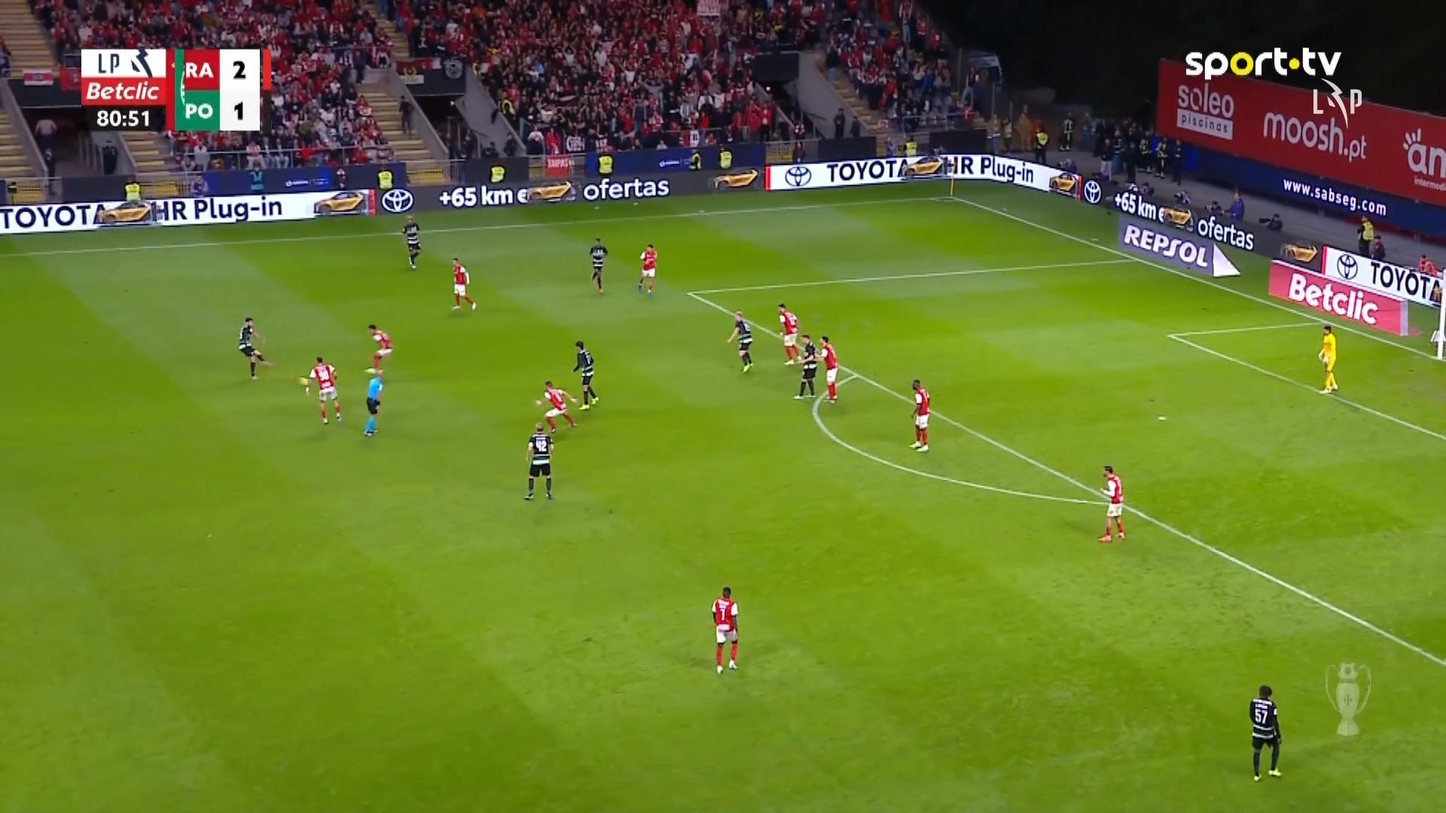ball: (716, 630, 725, 642), (728, 629, 737, 641), (298, 376, 307, 385)
goalkeeper: (1317, 324, 1338, 394)
player: (1248, 684, 1282, 781), (300, 355, 342, 425), (237, 316, 276, 380), (711, 585, 739, 674), (523, 422, 554, 500), (535, 379, 577, 434), (1097, 464, 1125, 541), (572, 340, 598, 410), (726, 310, 753, 373), (793, 333, 818, 399), (776, 302, 801, 365), (909, 379, 930, 451), (450, 257, 476, 311), (366, 323, 393, 375), (818, 335, 839, 401), (401, 215, 422, 269), (636, 242, 657, 295), (588, 236, 607, 294)
referee: (362, 367, 383, 436)
